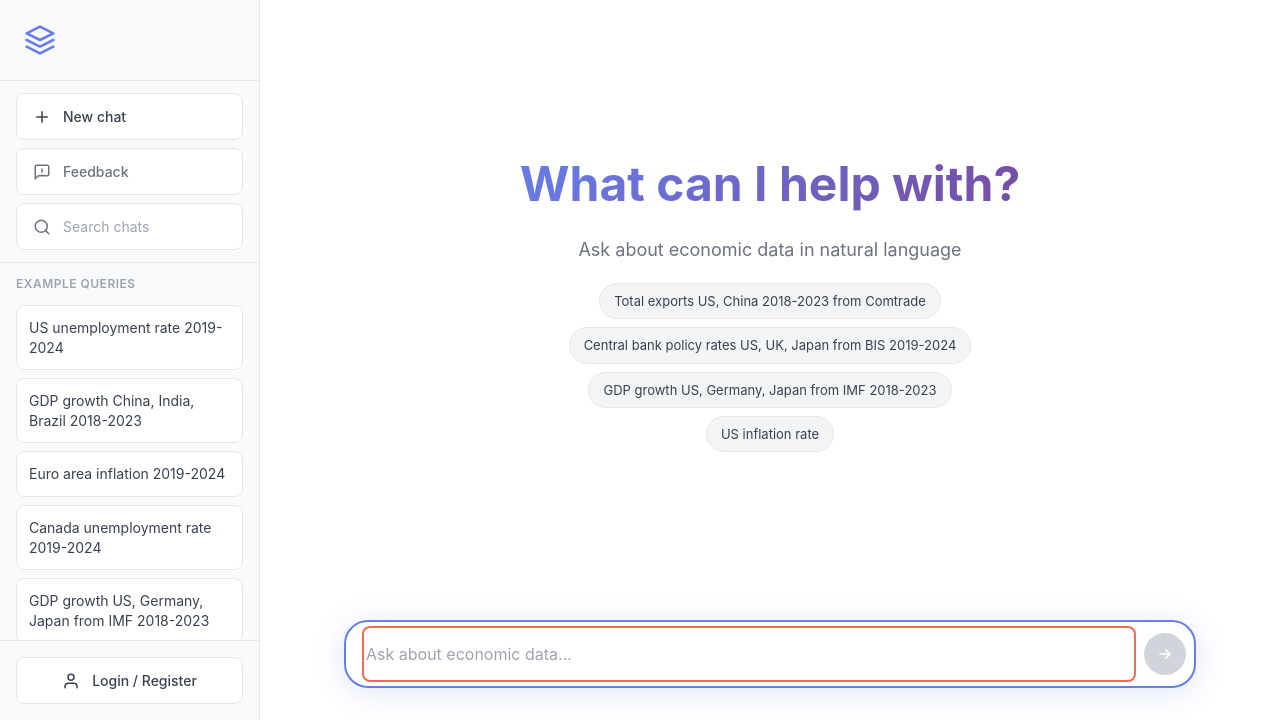
it: ChatPage › new chat › clears messages when New chat is clicked
Type "Test query" into the field with placeholder "Ask about economic data..." at (749, 654), box [366, 630, 1132, 678]
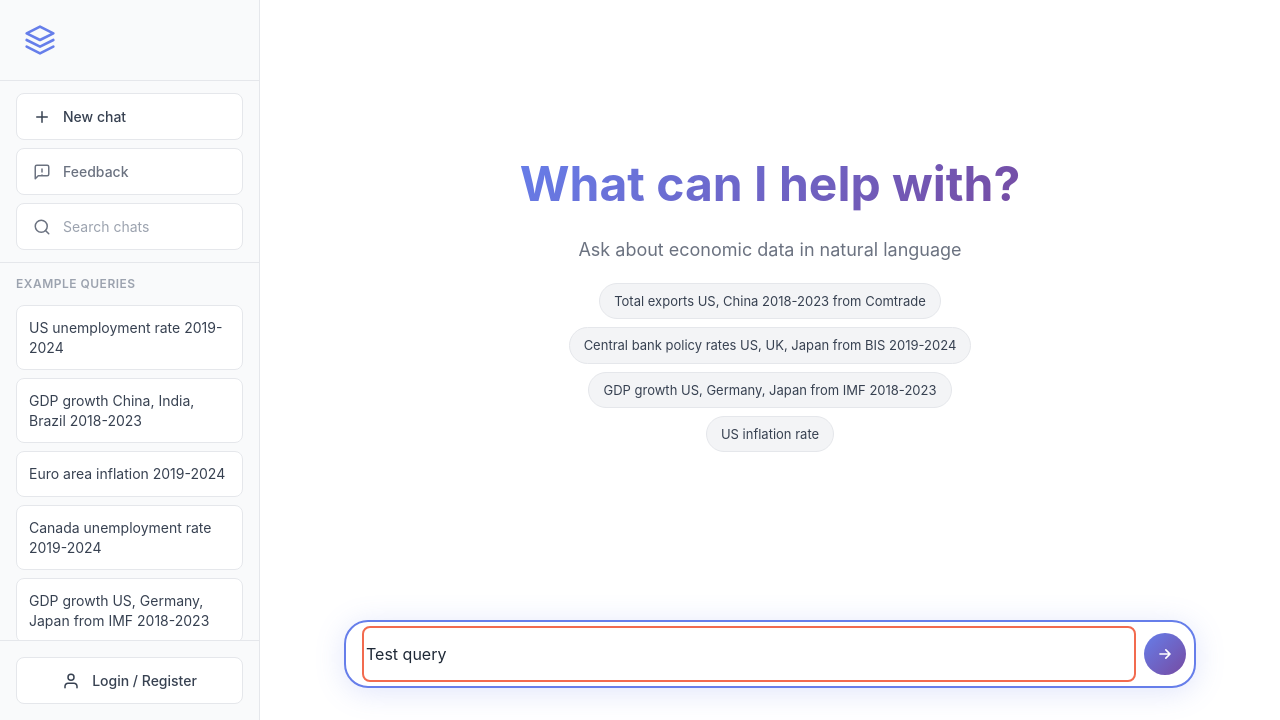
Submit the form with placeholder "Ask about economic data", box [344, 620, 1196, 688]
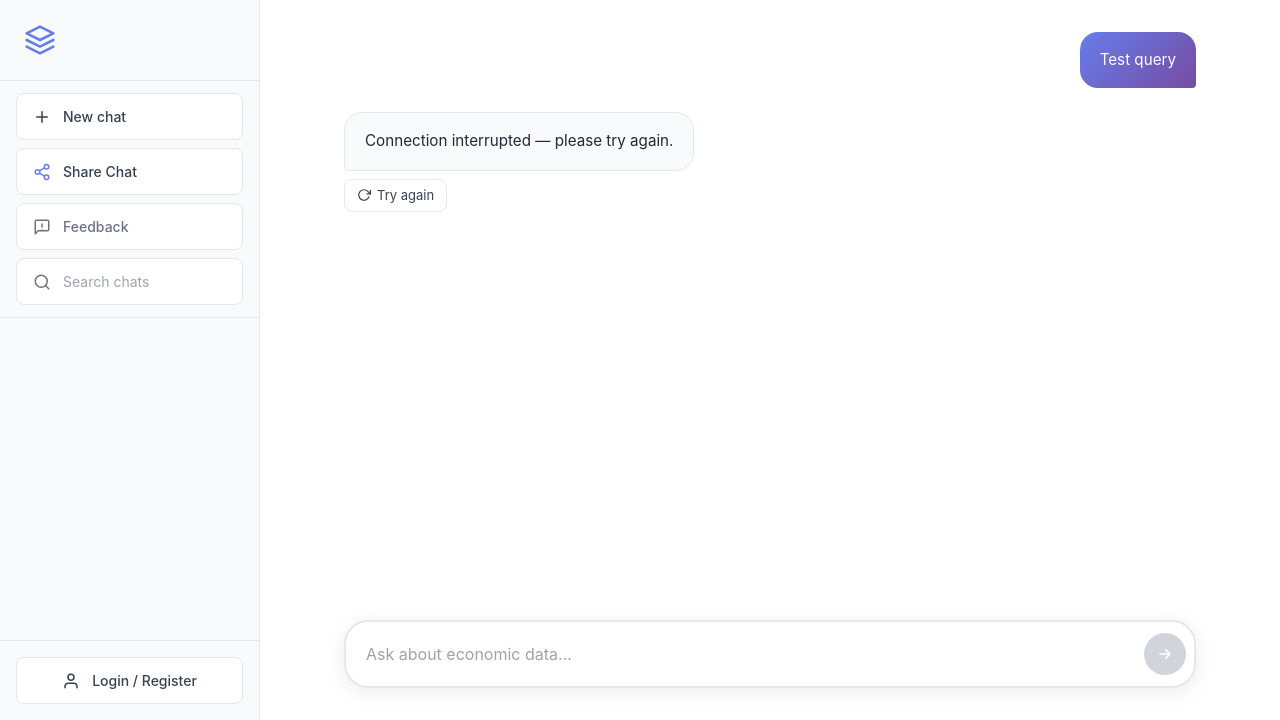
expect the text "Test query" is shown: met, box [1080, 32, 1196, 88]
Note: Click New chat
Click the button "New chat" at (130, 116), box [16, 93, 243, 140]
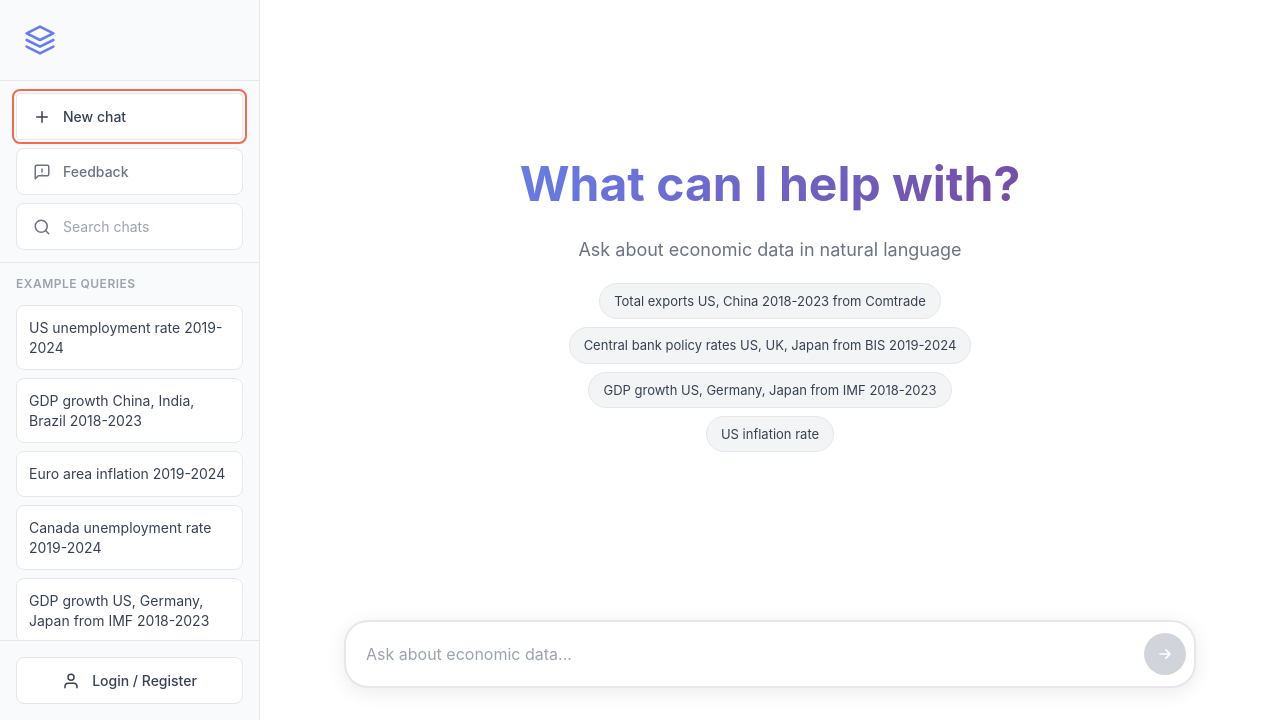
expect the heading "What can I help with?" is shown: met, box [520, 148, 1020, 220]
